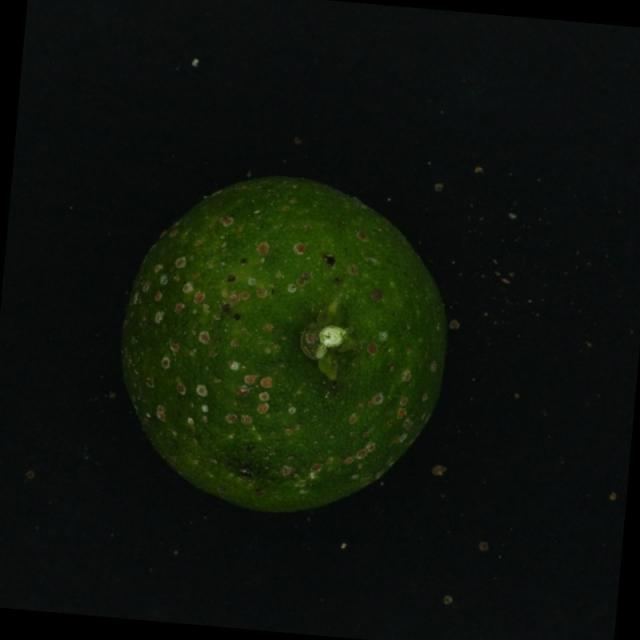grenning: (84, 162, 467, 537)
